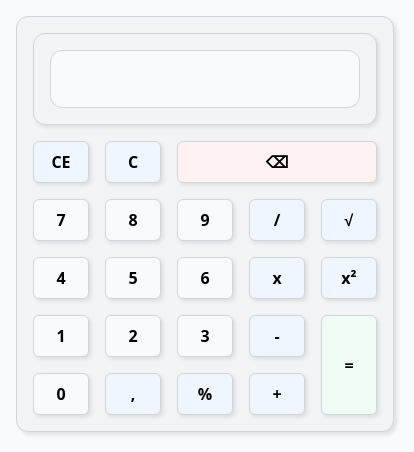
Test case: test_functional › Must click some buttons and then click backspace
The image size is (414, 452).
Click the button with test id "button-1" at (61, 336), box [33,315,89,357]
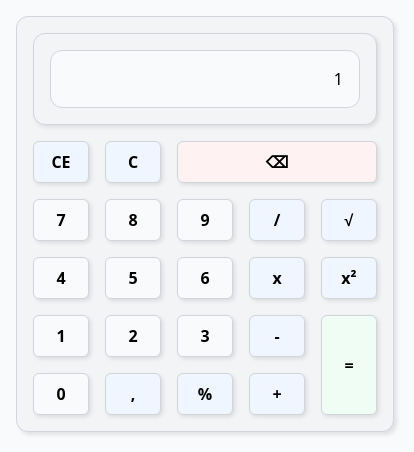
Click the button with test id "button-2" at (133, 336), box [105,315,161,357]
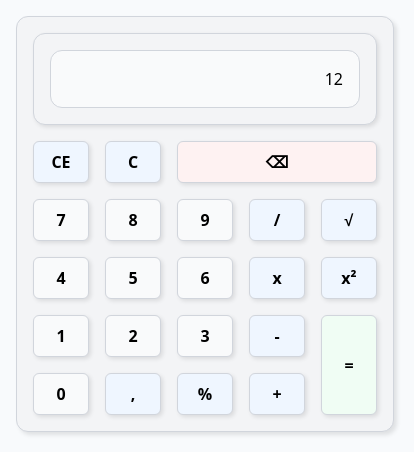
Click the button with test id "button-+" at (277, 394), box [249,373,305,415]
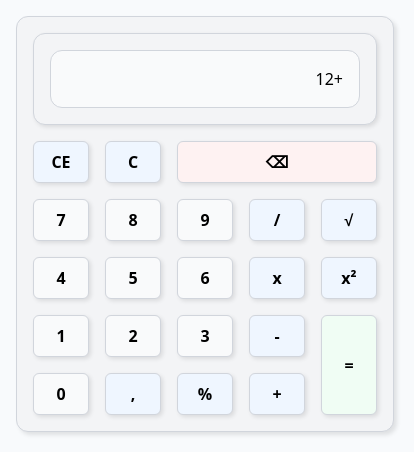
Click the button with test id "button-1" at (61, 336), box [33,315,89,357]
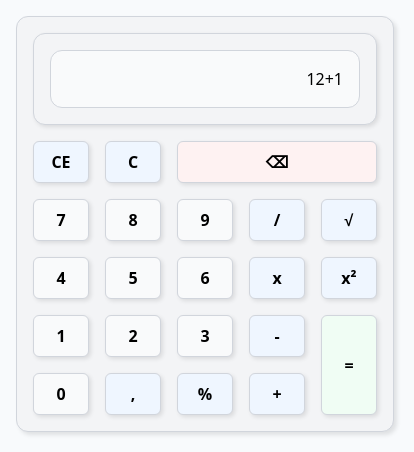
Click the button with test id "button-backspace" at (277, 162), box [177,141,377,183]
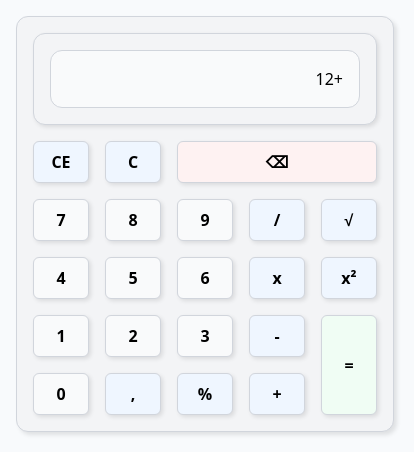
Expected: the element with test id "result" reads "12+", [316,68,344,90]
